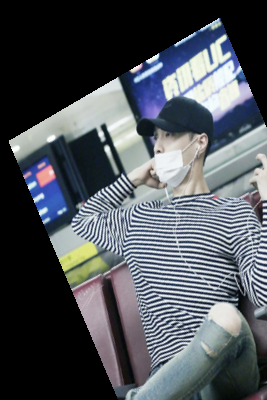mask_weared_incorrect: (136, 98, 219, 189)
